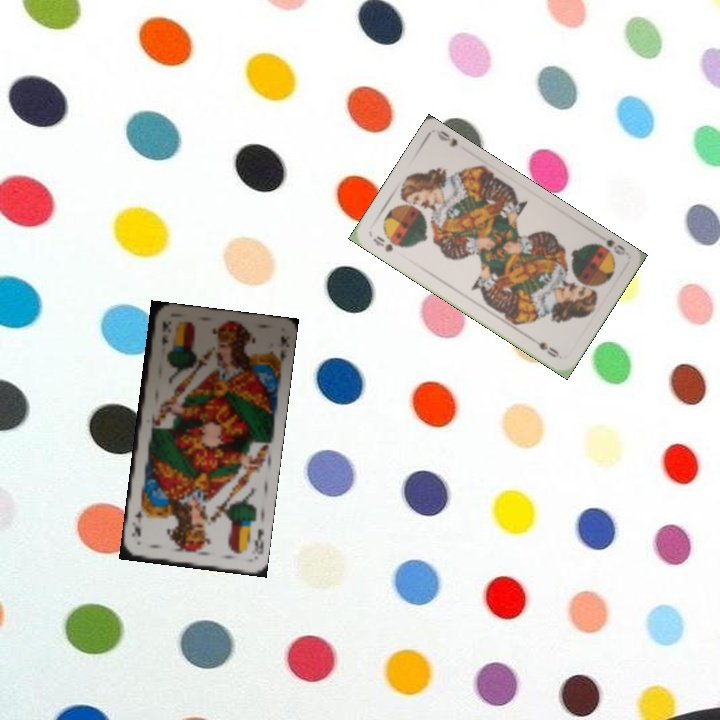EK: (250, 525, 266, 556), (157, 317, 172, 348)
SO: (588, 235, 628, 261), (369, 232, 401, 255)
